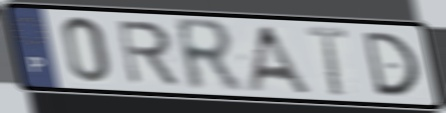0: (59, 14, 114, 86)
A: (243, 23, 315, 96)
D: (360, 30, 422, 98)
R: (171, 16, 247, 95), (114, 18, 183, 87)
T: (303, 24, 351, 99)
